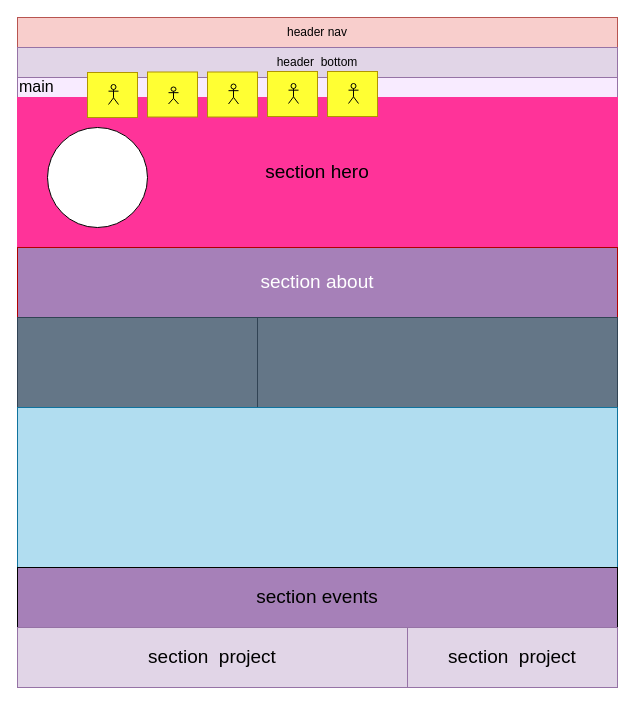
Some shapes in this 635 by 705 pixel diagram are drawn without their labels. The shapes that lost their labels are listed below. From the top down, each one's centre as x and y in pixels, then its label:
point 97,177: hero content
point 137,362: section gallery-left
point 437,362: section gallery-right
point 317,487: section gallery
